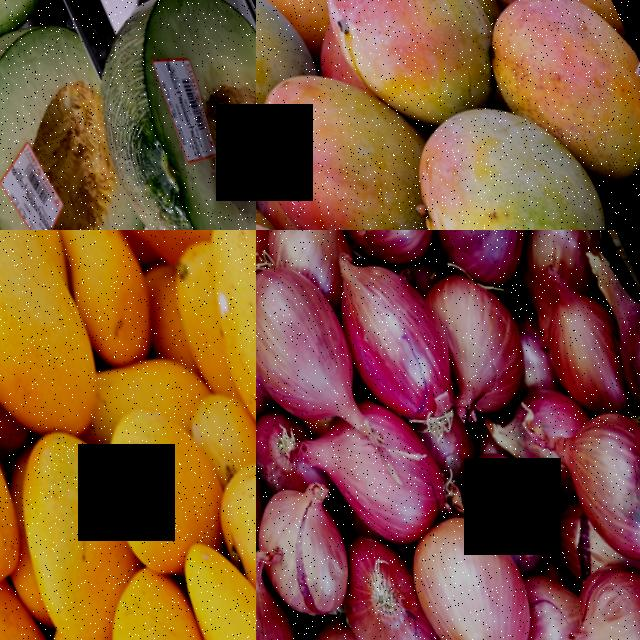mango: (385, 69, 598, 230), (256, 44, 433, 230), (475, 0, 640, 186), (305, 0, 501, 133), (164, 230, 256, 464), (0, 267, 45, 601), (71, 569, 256, 640), (198, 414, 256, 602)
melon: (0, 0, 179, 230), (6, 153, 213, 230)
onion: (318, 237, 463, 426), (305, 381, 458, 557), (390, 489, 554, 640), (256, 241, 374, 443), (424, 253, 544, 410), (548, 381, 640, 570), (459, 423, 570, 564), (256, 468, 360, 618), (527, 272, 635, 415), (560, 529, 640, 640), (414, 230, 550, 280), (256, 531, 313, 640), (320, 230, 451, 273)
